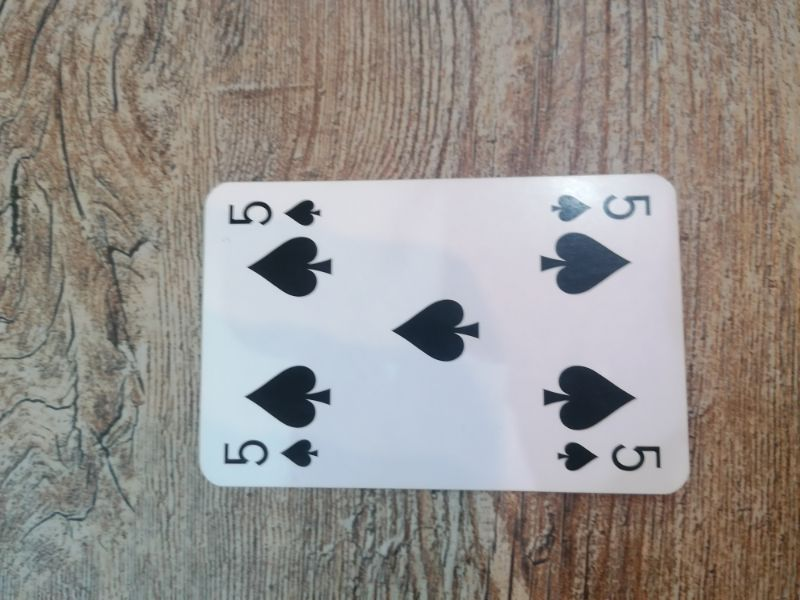5s: (545, 189, 659, 229), (551, 438, 666, 477), (216, 435, 323, 474), (224, 193, 325, 232)
